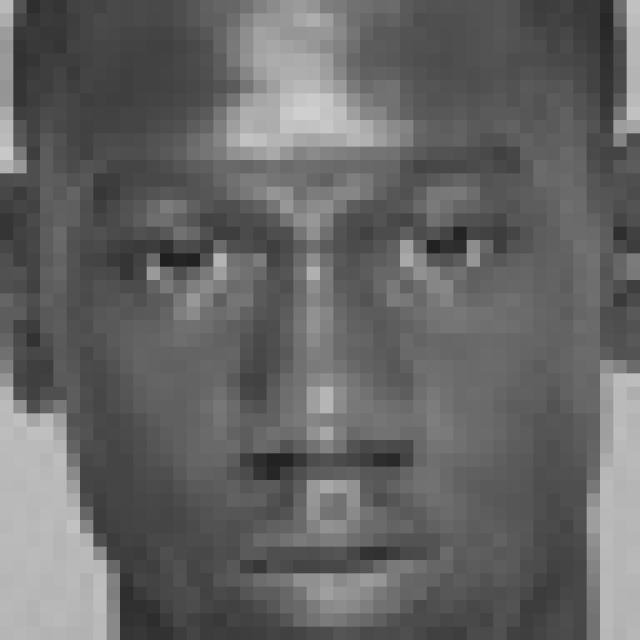neutral: (89, 142, 538, 640)
